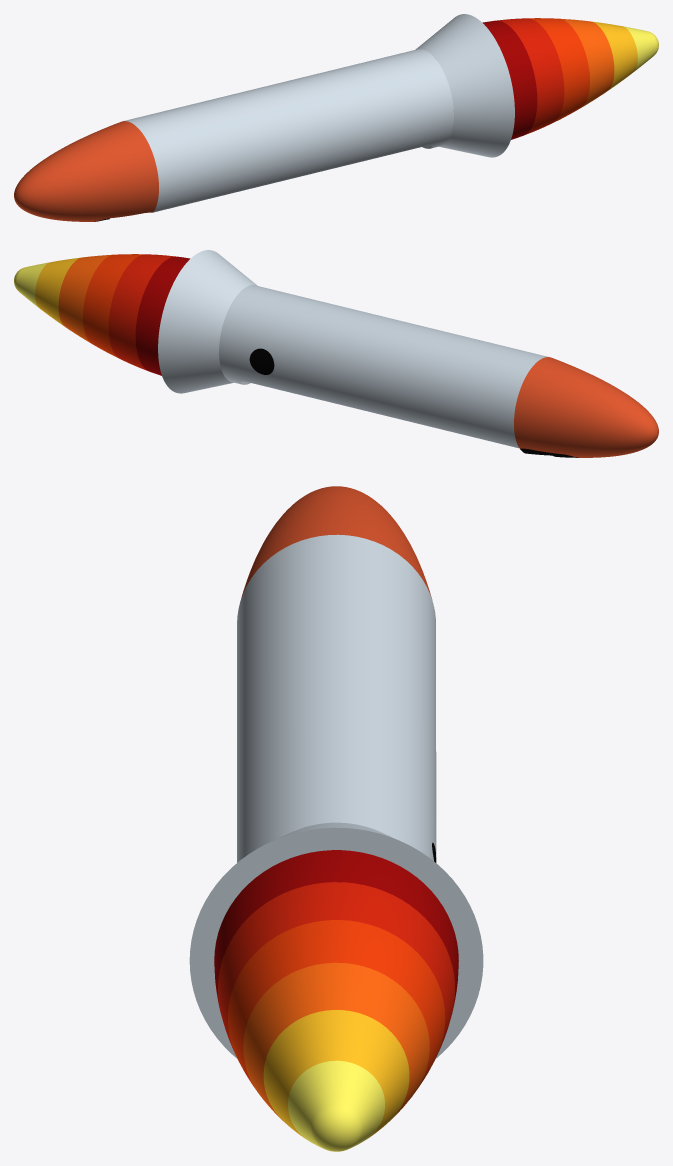
The model's file is rocketfront.glb.
3 renders of one model, top to bottom at view 1: azimuth 30°, elevation 25°; view 2: azimuth 150°, elevation 25°; view 3: azimuth 270°, elevation 25°, orthographic. The views are drawn at different scales.
Visible parts, largest first — view 1: Part 1, Part 2, Part 4, Part 3, Part 5, Part 6, Part 7, Part 8; view 2: Part 1, Part 2, Part 4, Part 3, Part 5, Part 6, Part 7, Part 8, Part 127; view 3: Part 1, Part 5, Part 6, Part 4, Part 7, Part 3, Part 8, Part 2.
Boxes of the visible parts, x1=… form: Part 1: x1=123, y1=14, x2=514, y2=212; Part 2: x1=14, y1=121, x2=158, y2=221; Part 4: x1=497, y1=18, x2=564, y2=134; Part 3: x1=482, y1=20, x2=537, y2=139; Part 5: x1=529, y1=18, x2=589, y2=121; Part 6: x1=560, y1=18, x2=614, y2=106; Part 7: x1=592, y1=21, x2=637, y2=90; Part 8: x1=623, y1=26, x2=658, y2=71; Part 1: x1=158, y1=250, x2=547, y2=448; Part 2: x1=514, y1=357, x2=658, y2=457; Part 4: x1=108, y1=254, x2=175, y2=370; Part 3: x1=135, y1=256, x2=190, y2=375; Part 5: x1=83, y1=254, x2=143, y2=357; Part 6: x1=58, y1=254, x2=112, y2=342; Part 7: x1=35, y1=257, x2=80, y2=326; Part 8: x1=14, y1=262, x2=49, y2=307; Part 127: x1=249, y1=348, x2=274, y2=374; Part 1: x1=189, y1=534, x2=483, y2=1058; Part 5: x1=228, y1=920, x2=445, y2=1089; Part 6: x1=243, y1=962, x2=429, y2=1120; Part 4: x1=218, y1=882, x2=454, y2=1050; Part 7: x1=263, y1=1010, x2=409, y2=1139; Part 3: x1=214, y1=850, x2=458, y2=1010; Part 8: x1=288, y1=1060, x2=384, y2=1151; Part 2: x1=241, y1=486, x2=432, y2=599.
Bounding box in the file's own units: 3.31 × 0.6572 × 0.6571.
